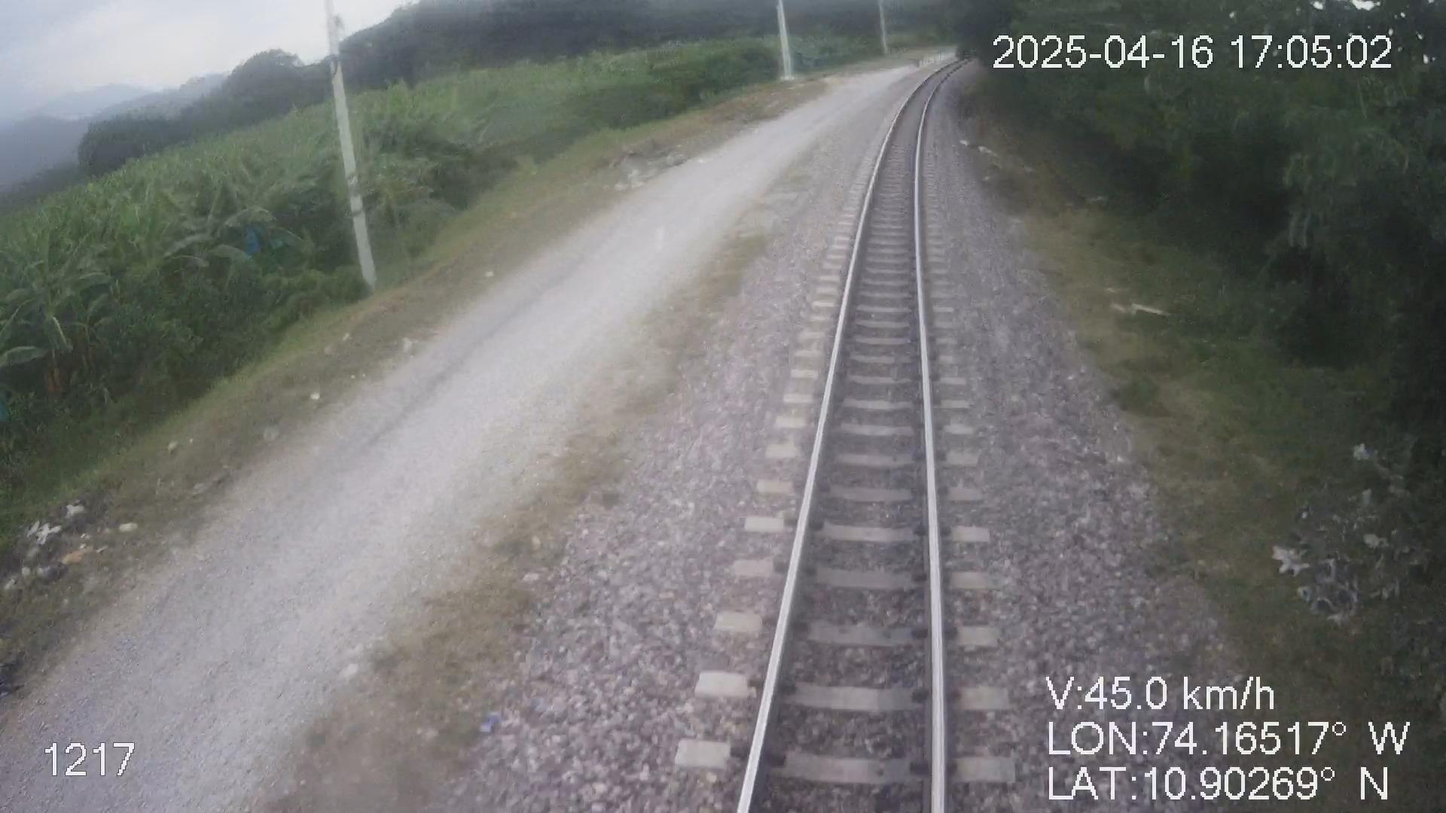Pasto: (0, 0, 952, 690), (964, 0, 1445, 729)
